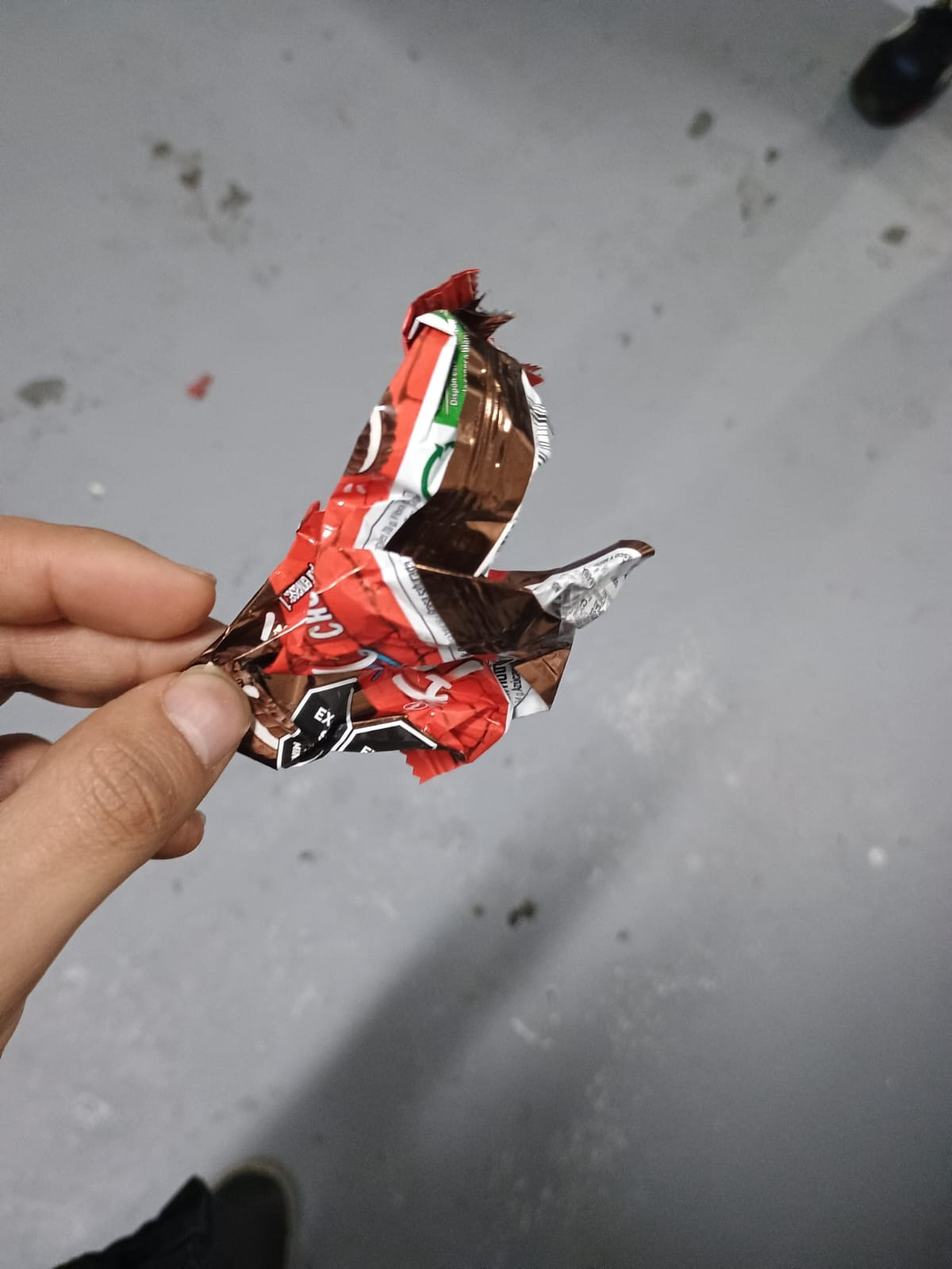Ordinario: (202, 265, 653, 779)
